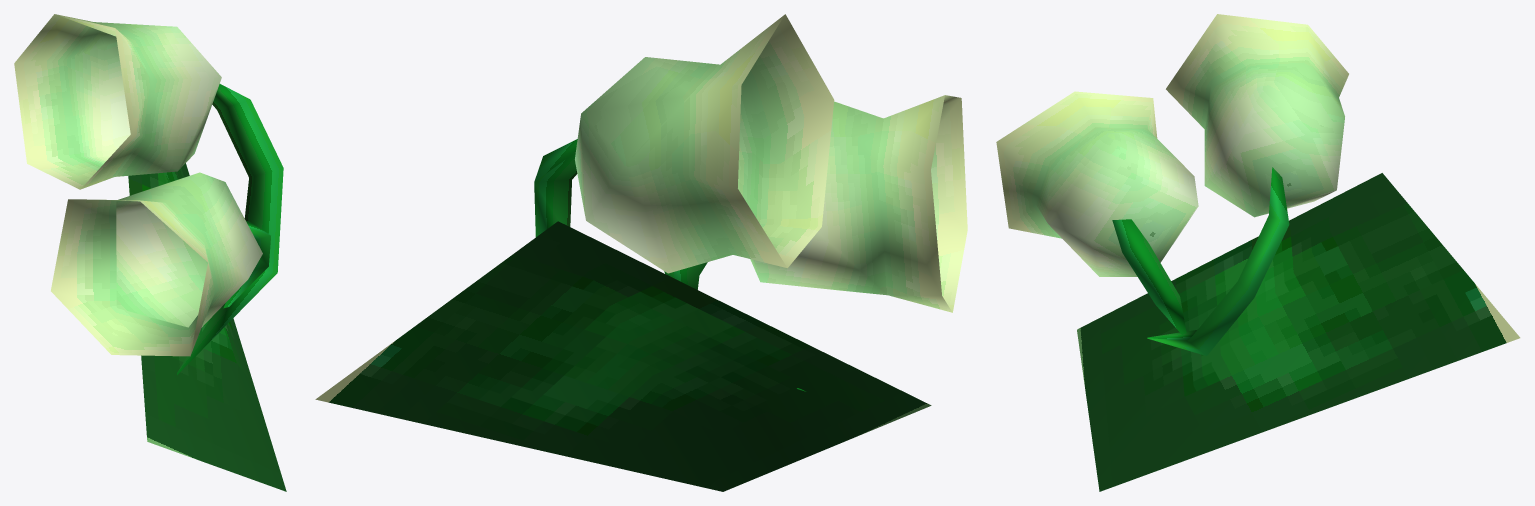
File: flw_lily_cap.dae
The picture shows the model from 3 angles, left to right: view 1: azimuth 30°, elevation 25°; view 2: azimuth 150°, elevation 25°; view 3: azimuth 270°, elevation 25°; orthographic projection. The views are drawn at different scales.
Parts seen in each view (by area): view 1: flw_lily_cap; view 2: flw_lily_cap; view 3: flw_lily_cap.
Boxes of the visible parts, <box> form: flw_lily_cap: <box>14,14,286,491</box>; flw_lily_cap: <box>315,14,967,491</box>; flw_lily_cap: <box>996,14,1520,491</box>.
Size of the model in its own units: 8.35 by 11.76 by 13.1.
Materials: 1 (1 with a texture image).
